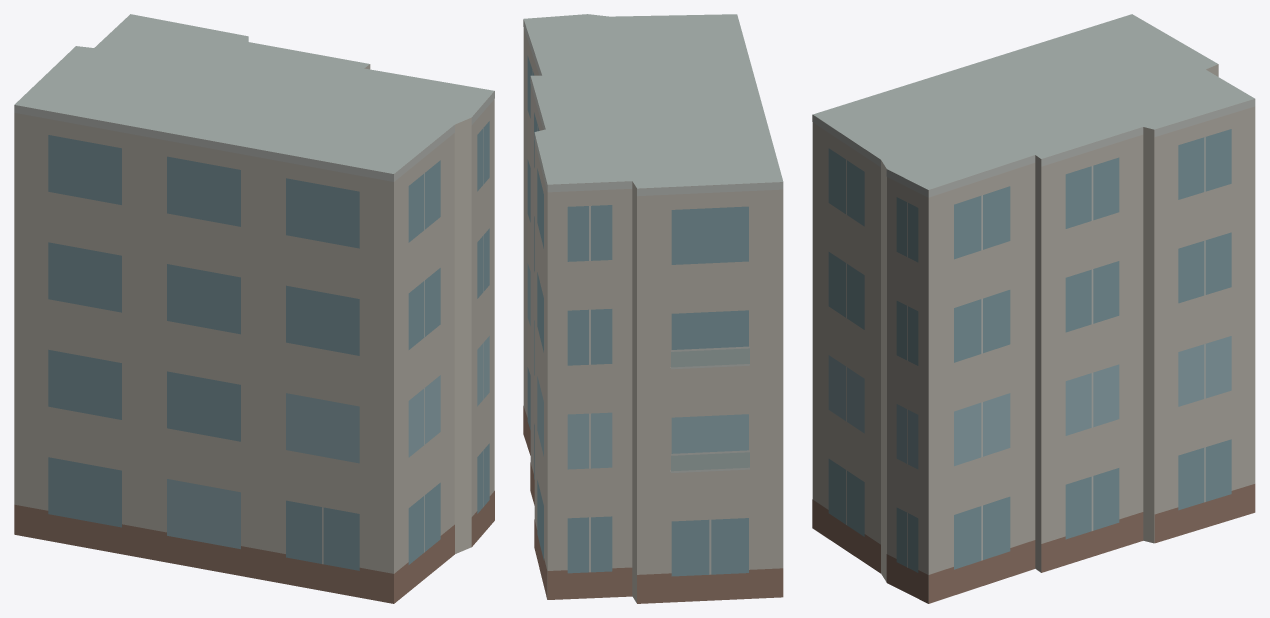
The model's file is survey-upis-32461635.glb.
The picture shows the model from 3 angles, left to right: view 1: azimuth 30°, elevation 25°; view 2: azimuth 150°, elevation 25°; view 3: azimuth 270°, elevation 25°; orthographic projection. The views are drawn at different scales.
Visible parts, largest first — view 1: survey-upis-32461635.tmp; view 2: survey-upis-32461635.tmp; view 3: survey-upis-32461635.tmp.
Boxes of the visible parts, x1,y1,x2,y2 form: survey-upis-32461635.tmp: (14, 14, 494, 603); survey-upis-32461635.tmp: (523, 14, 783, 603); survey-upis-32461635.tmp: (812, 14, 1255, 603).
Bounding box in the file's own units: 12.05 × 13.2 × 12.81.
